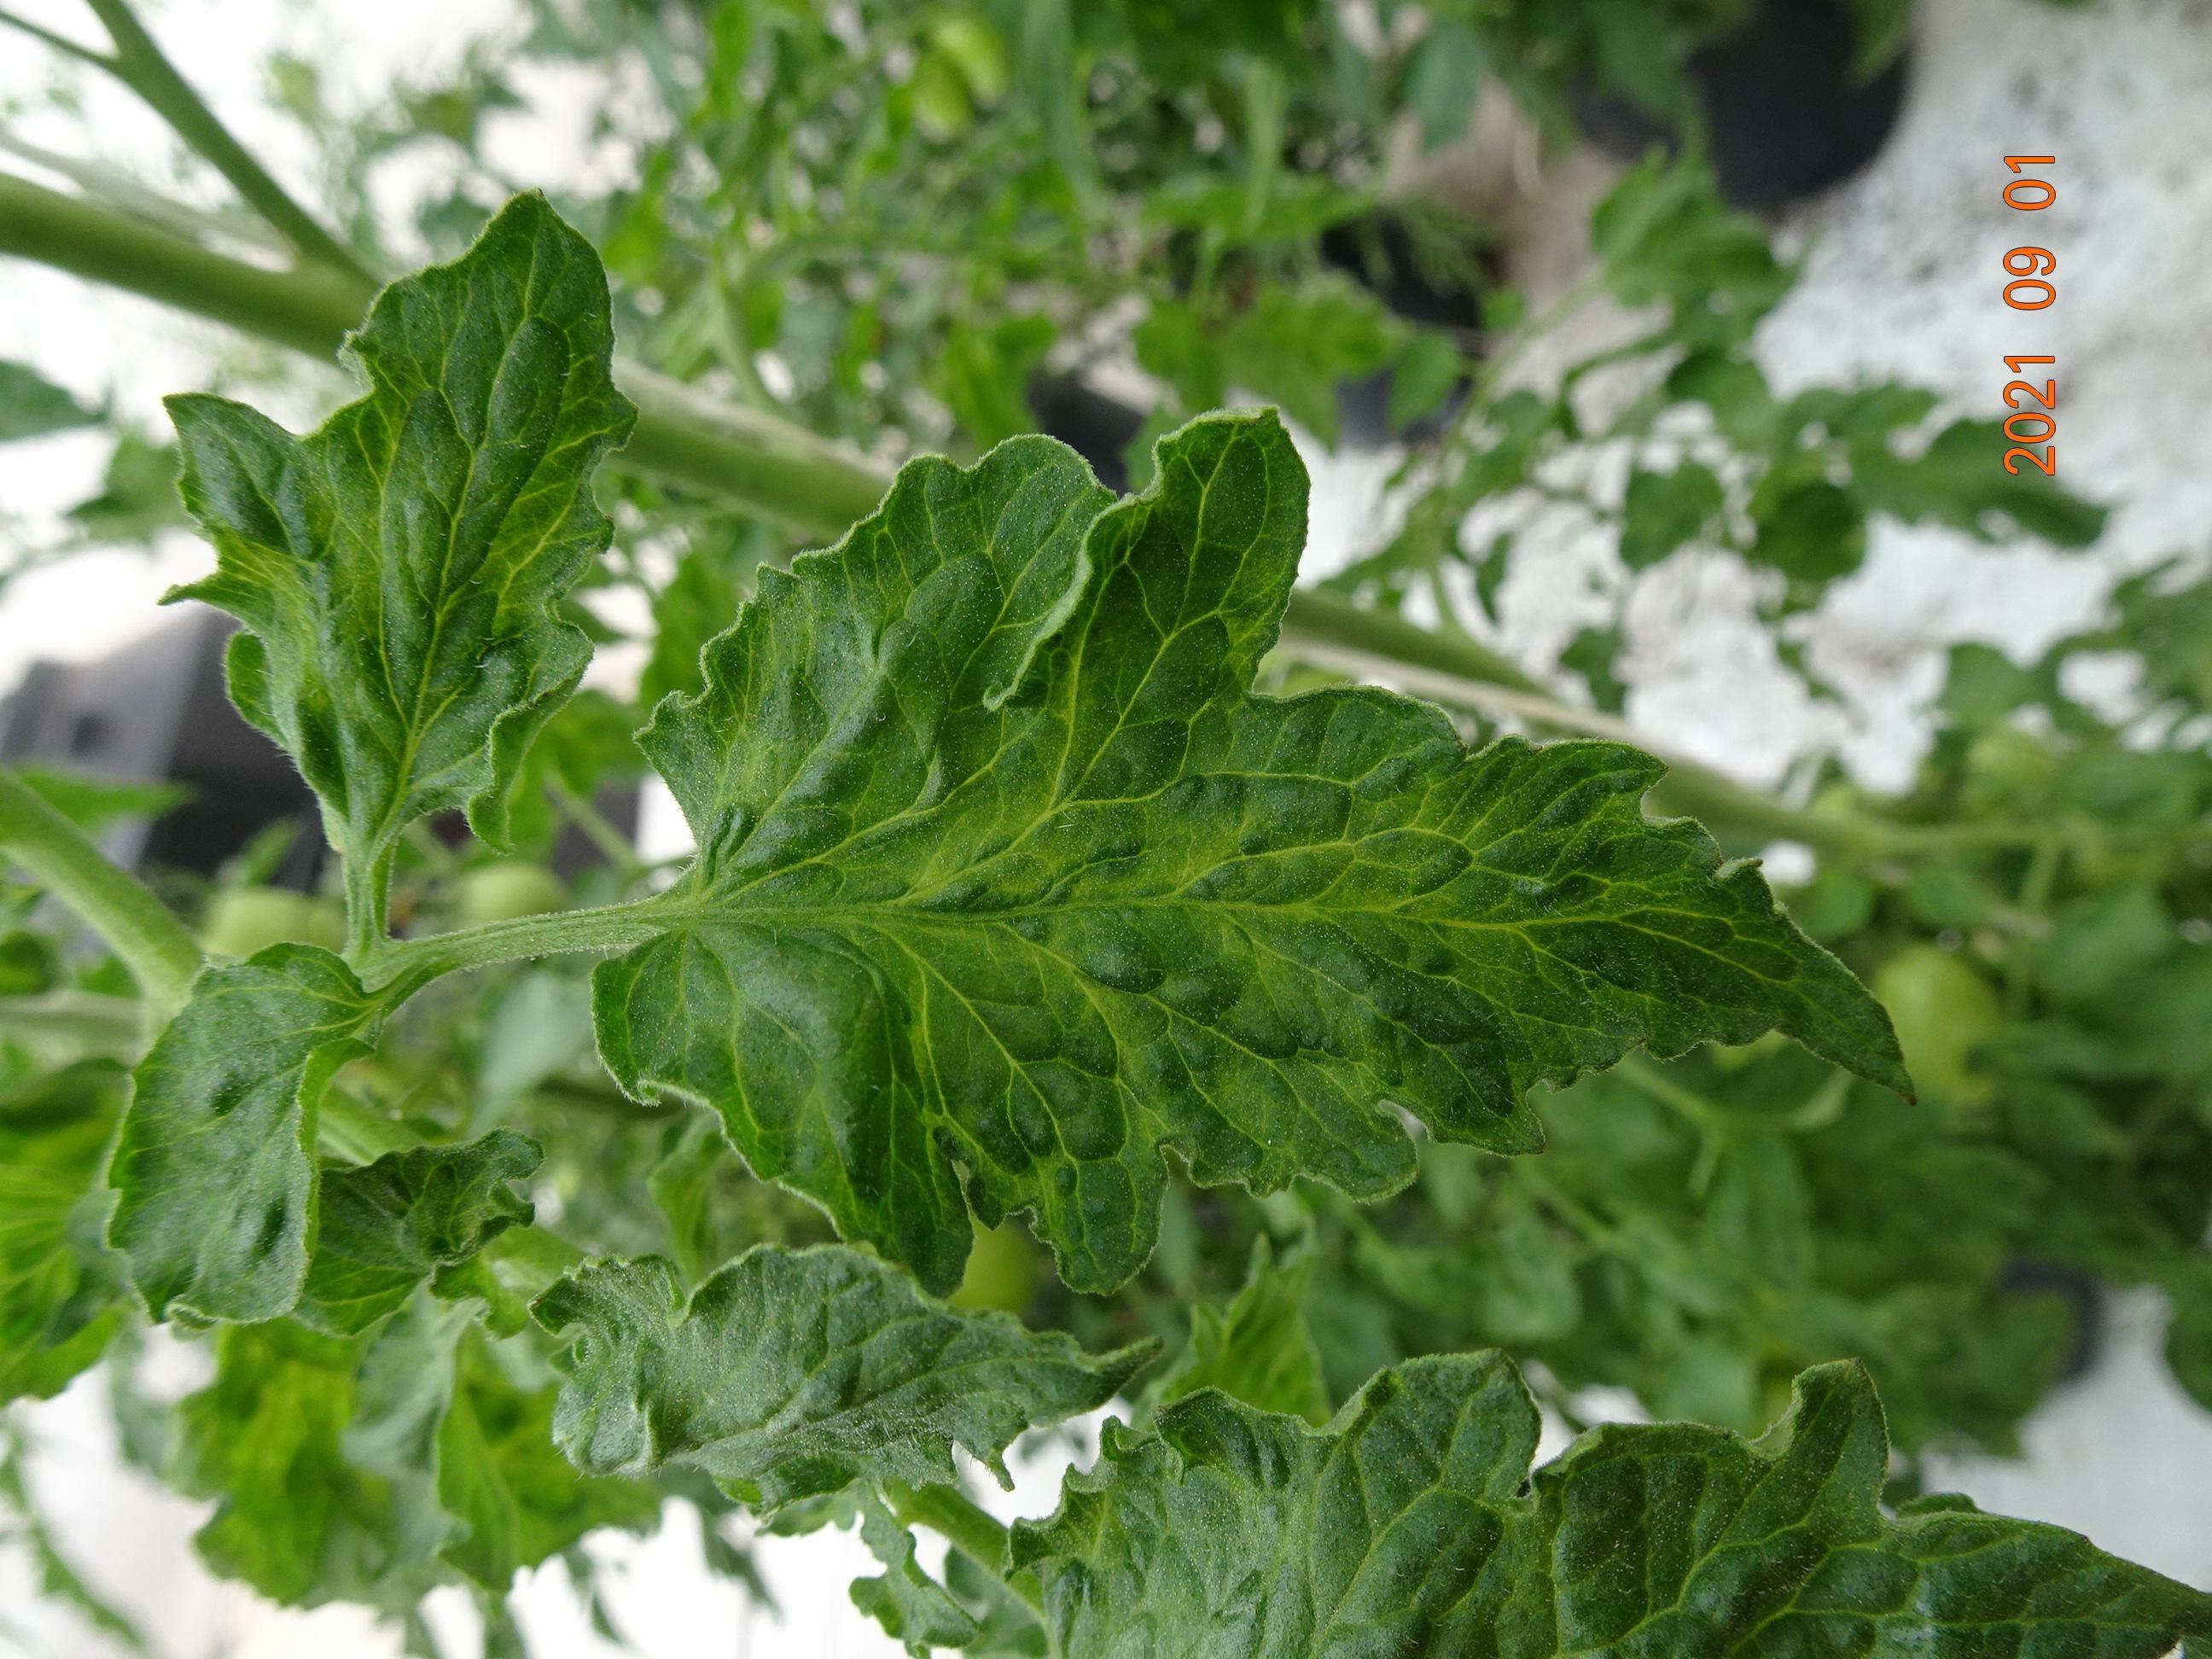Rugose leaf: (596, 411, 1900, 1288), (1010, 1352, 2212, 1656), (169, 195, 636, 964), (536, 1244, 1153, 1513), (108, 946, 388, 1323)
Rugose stem: (368, 894, 646, 1012)
